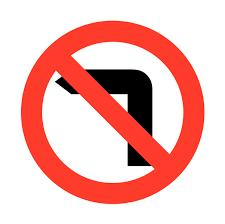no_left_turn: (19, 19, 204, 204)
